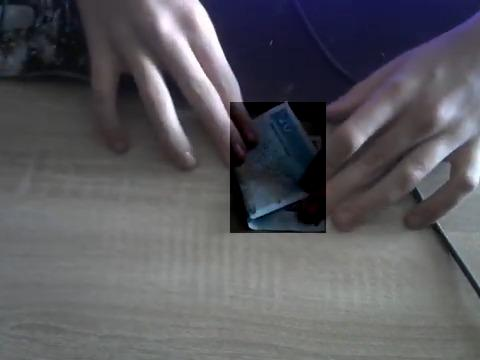20leva: (230, 102, 326, 233)
